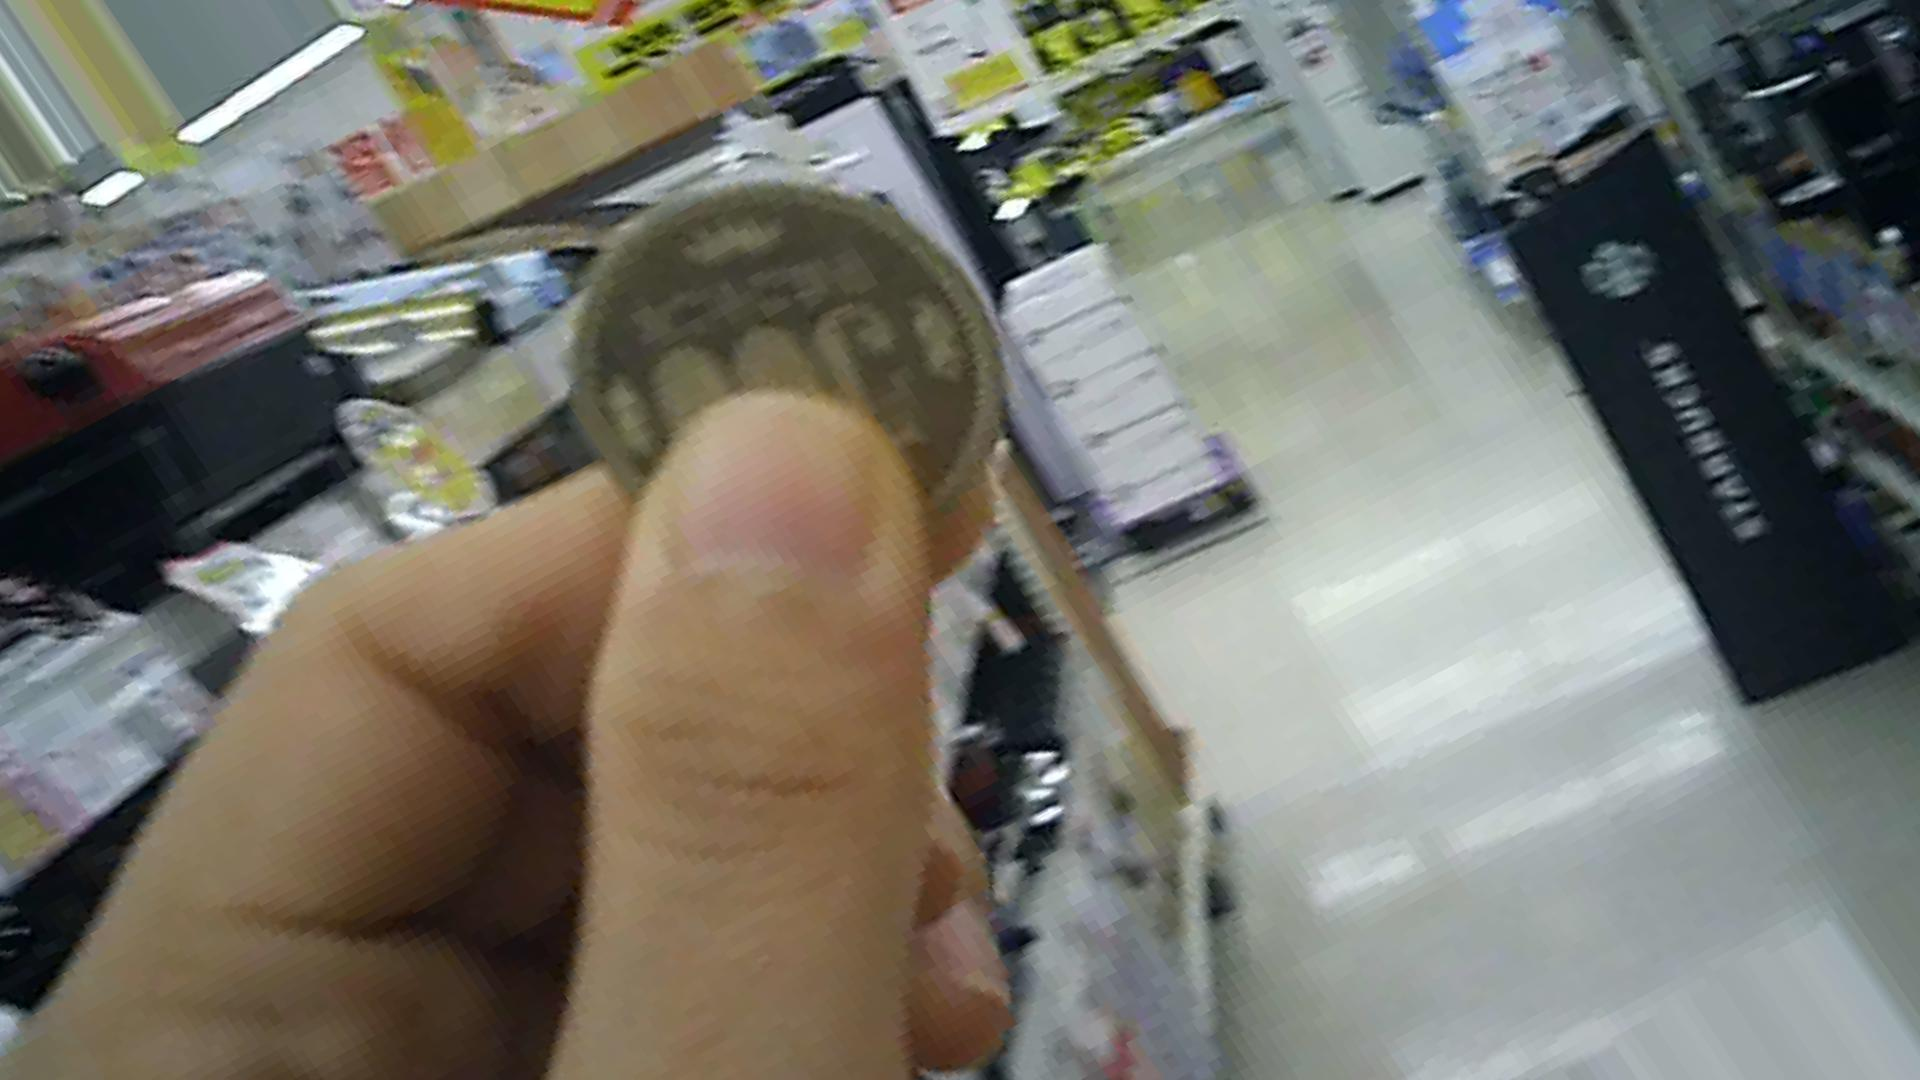500 Yen: (568, 169, 1002, 556)
